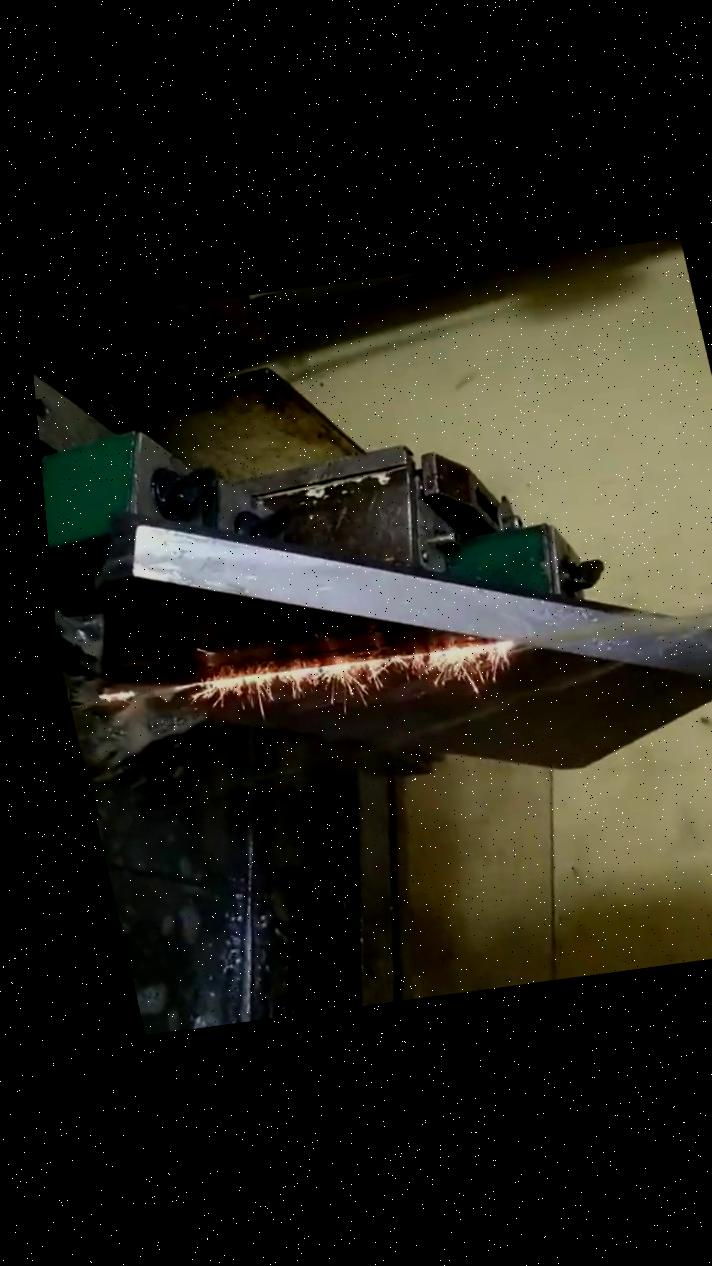fire: (50, 590, 632, 740)
